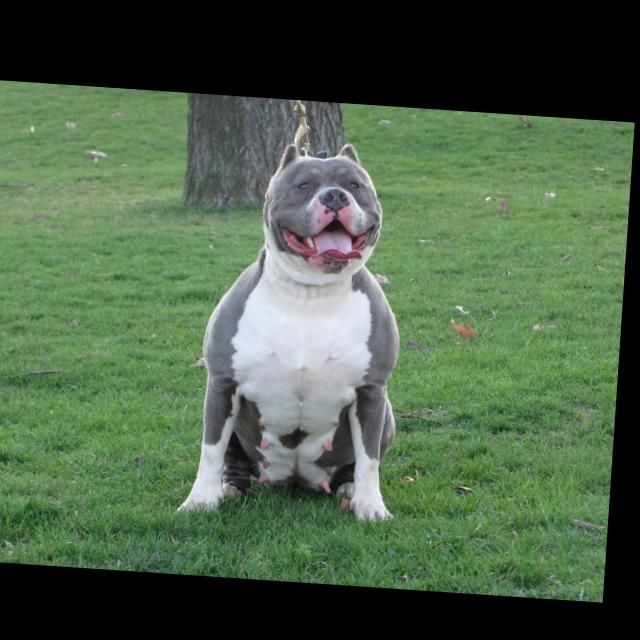am_pit_bull_terrier: (184, 130, 422, 523)
